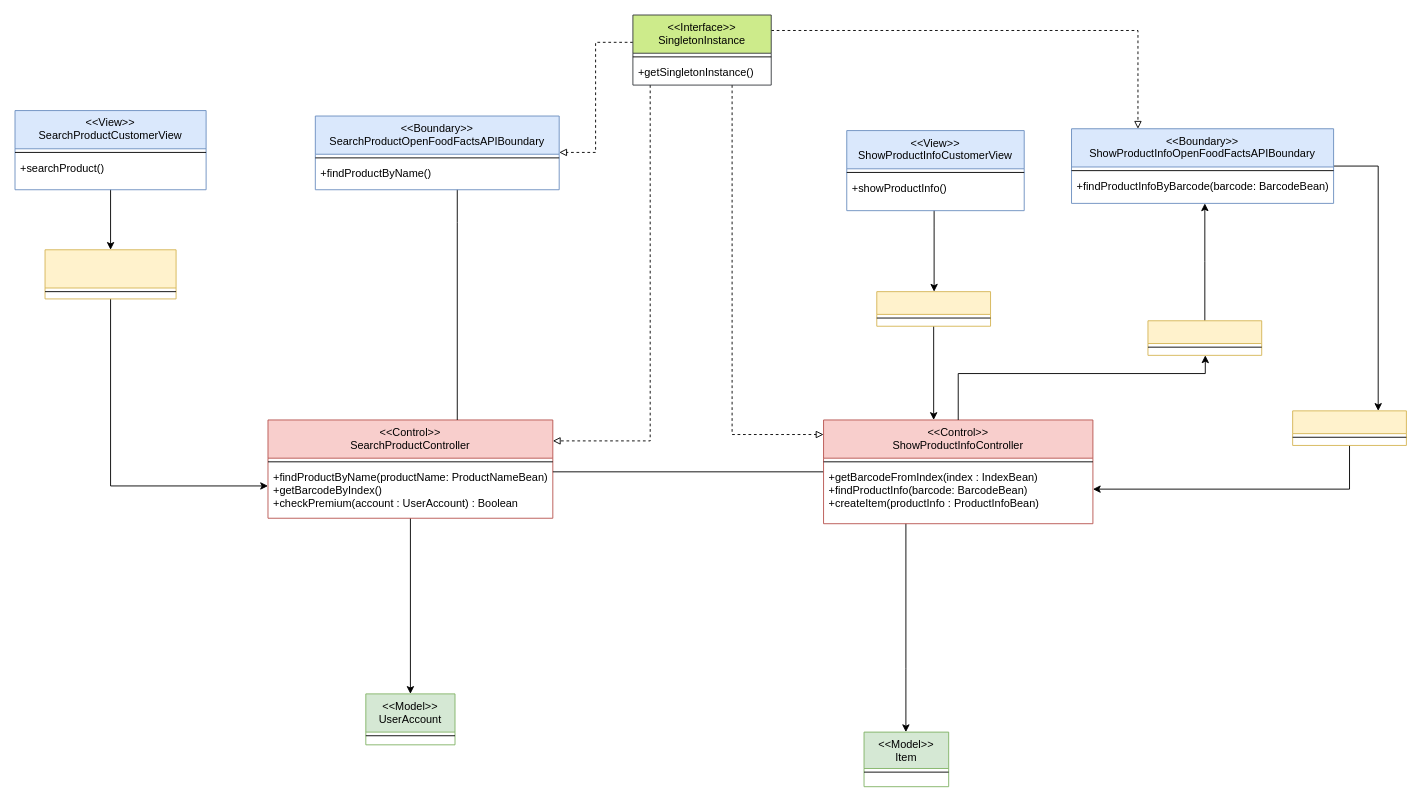
The diagram is 1421 pixels wide and 802 high, and some of its shapes have lost their labels. Each missing label, with the box of its shape:
BarcodeBean: (1147, 320, 1262, 355)
IndexBean: (876, 291, 991, 326)
ProductInfoBean: (1292, 410, 1406, 445)
ProductNameBean: (44, 249, 176, 299)
